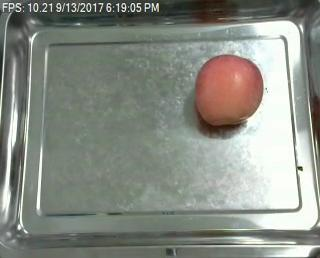apple: (194, 54, 264, 128)
